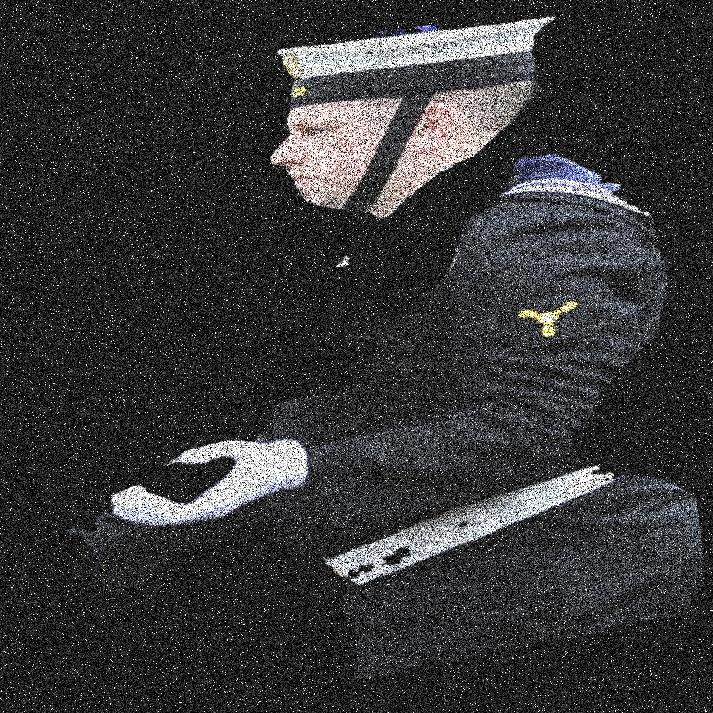Pessoa: (364, 0, 630, 712)
